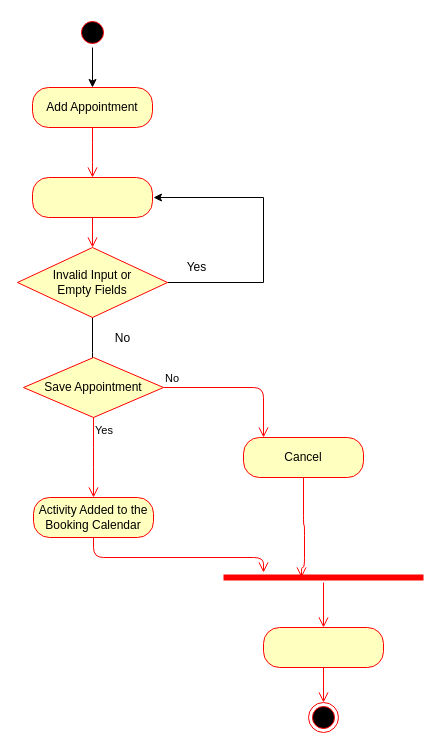
This 444x750 diagram has some shape labels left out. Each missing label, with the centre of its shape:
"Back to the Booking Calendar" goes at (323,647).
"Fill the Appointment Information" goes at (92,197).
